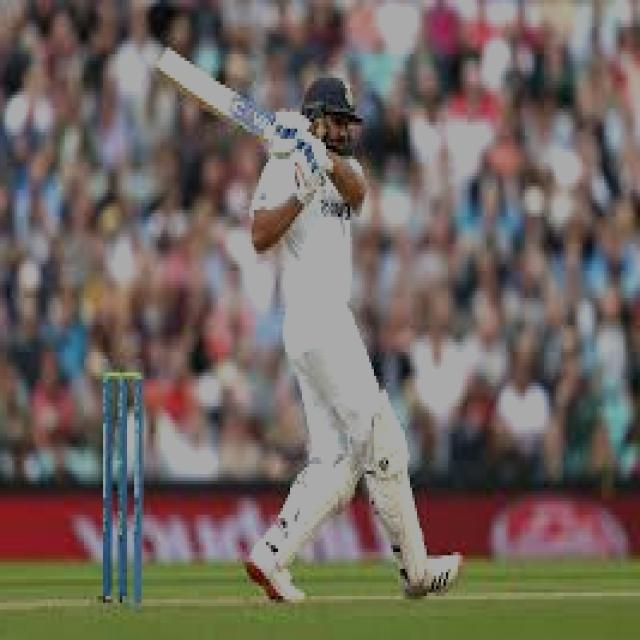toe: (154, 46, 173, 77)
